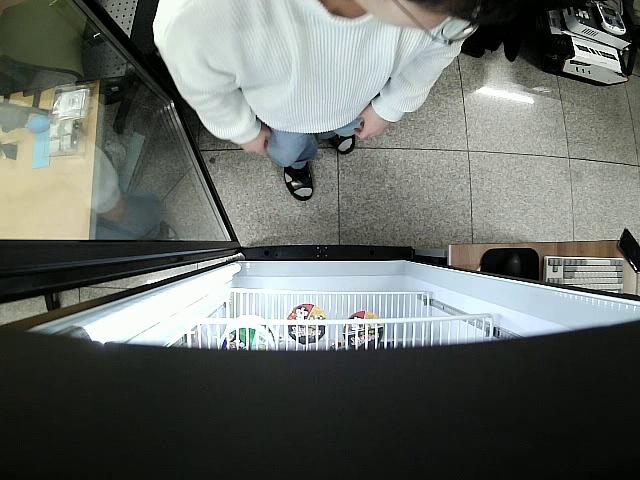00_hand: (350, 103, 391, 141)
